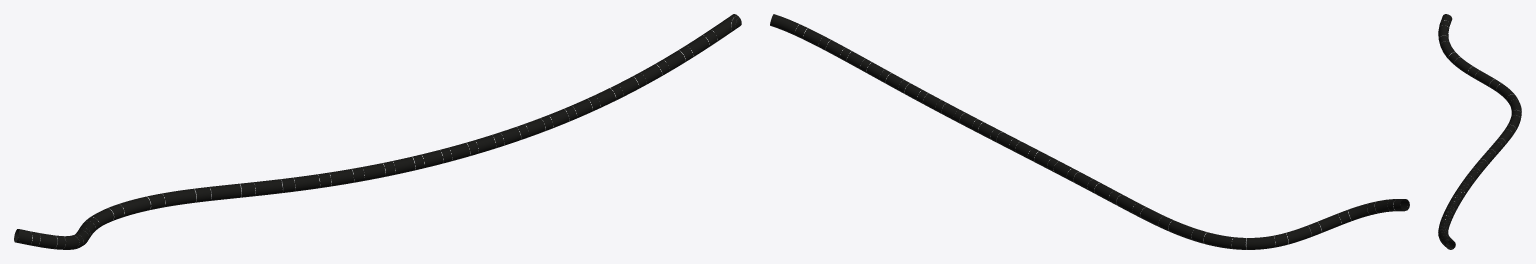
The model's file is cable_r_3.glb.
The picture shows the model from 3 angles, left to right: view 1: azimuth 30°, elevation 25°; view 2: azimuth 150°, elevation 25°; view 3: azimuth 270°, elevation 25°; orthographic projection. The views are drawn at different scales.
Parts seen in each view (by area): view 1: NurbsPath.008; view 2: NurbsPath.008; view 3: NurbsPath.008.
Boxes of the visible parts, box(x1,y1,x2,y2) form: NurbsPath.008: box(14, 14, 741, 249); NurbsPath.008: box(770, 14, 1409, 249); NurbsPath.008: box(1438, 14, 1521, 249).
Bounding box in the file's own units: 7.53 × 0.9568 × 1.04.
1 material, 1 textured.
